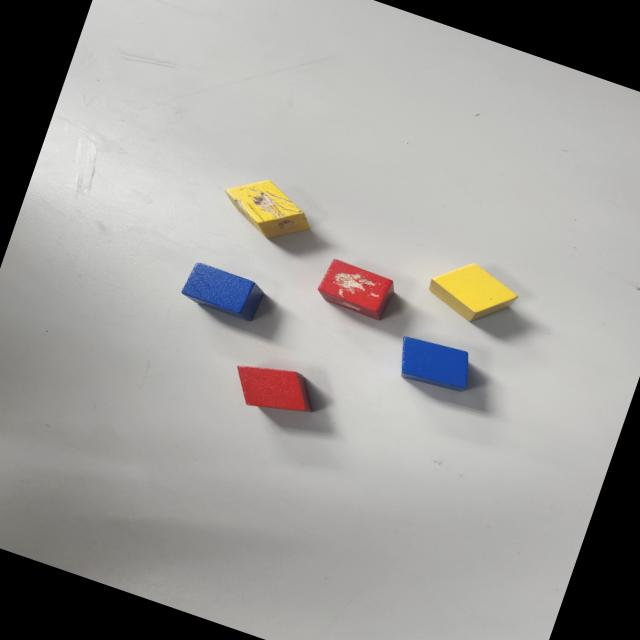blue: (390, 331, 478, 398), (178, 258, 264, 322)
broken: (214, 166, 320, 250), (313, 256, 398, 323)
red: (225, 353, 322, 425)
yellow: (421, 250, 524, 334)
